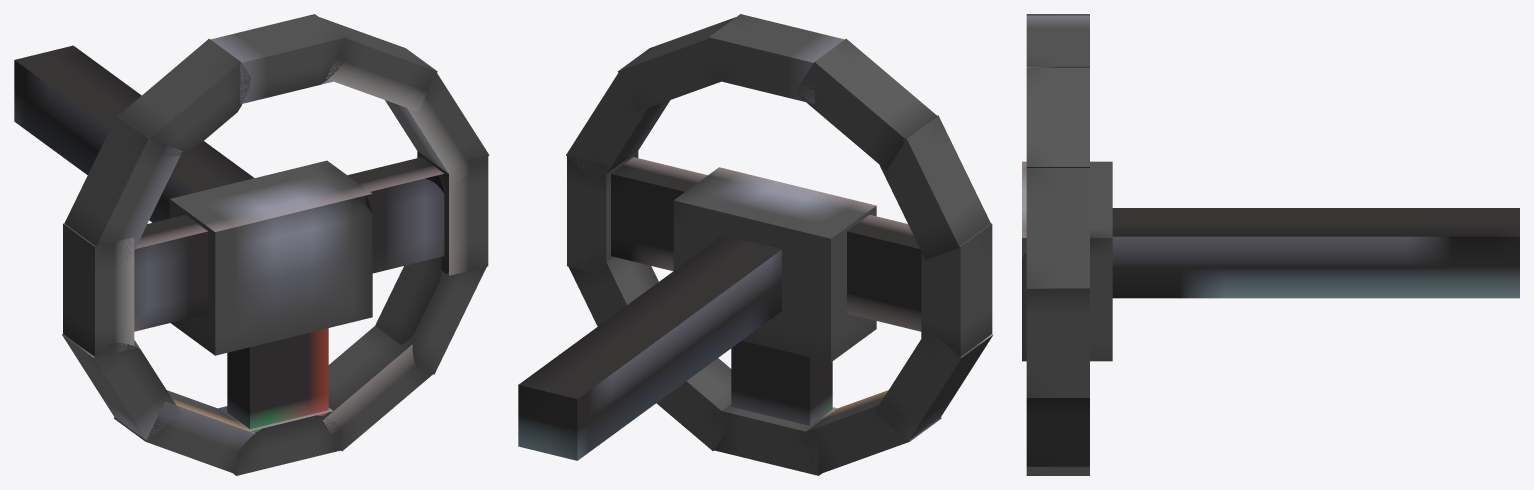
File: wuling_tie.obj
The picture shows the model from 3 angles, left to right: view 1: azimuth 30°, elevation 25°; view 2: azimuth 150°, elevation 25°; view 3: azimuth 270°, elevation 25°; orthographic projection.
Parts seen in each view (by area): view 1: cube; view 2: cube; view 3: cube.
Boxes of the visible parts, x1,y1,x2,y2 form: cube: (14,14,489,475); cube: (518,14,993,475); cube: (1022,14,1519,475).
Size of the model in its own units: 0.6288 by 0.6288 by 0.6875.
